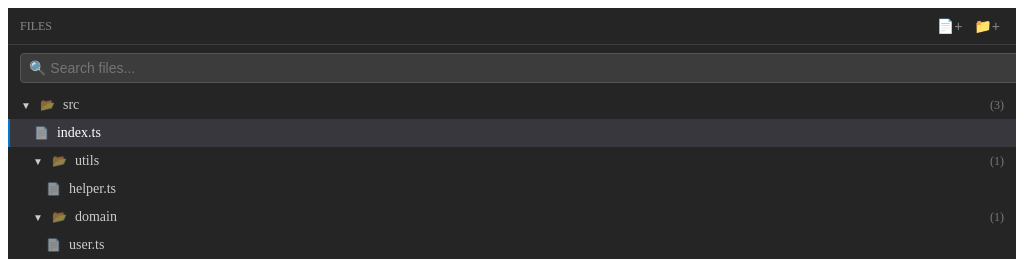
Test: EditableFileTree › search › should filter files by search query
Type "helper" into the field with placeholder "🔍 Search files..." at x=521, y=68, box [20,53,1022,83]
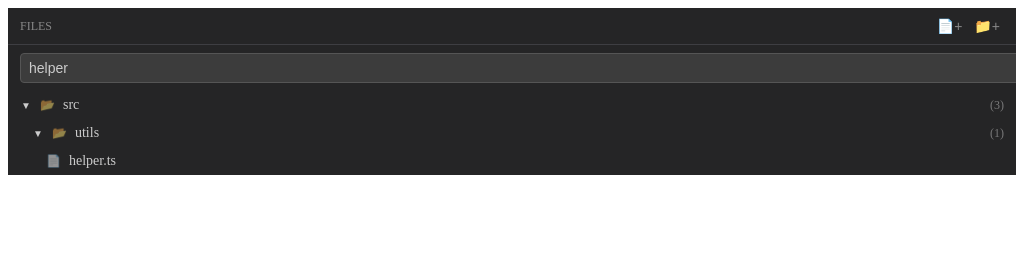
Expected: the text "helper.ts" is shown, [69,153,116,169]
Now the text "index.ts" is gone
